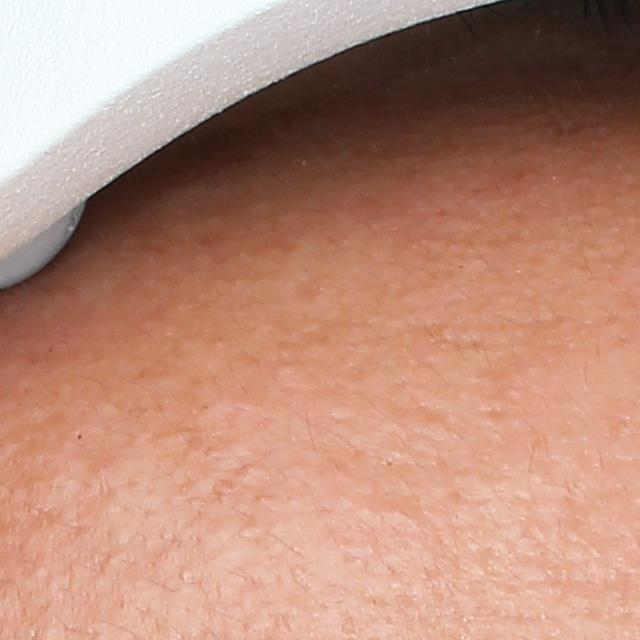comedo: (73, 428, 88, 443)
